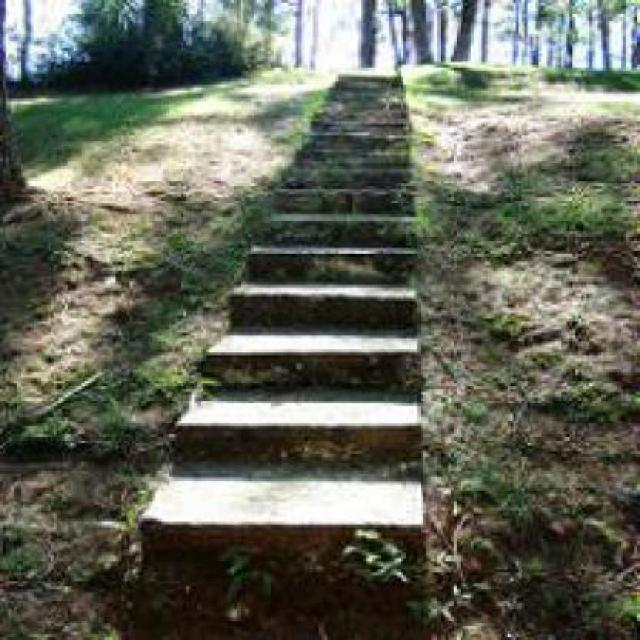stair: (105, 223, 491, 542)
